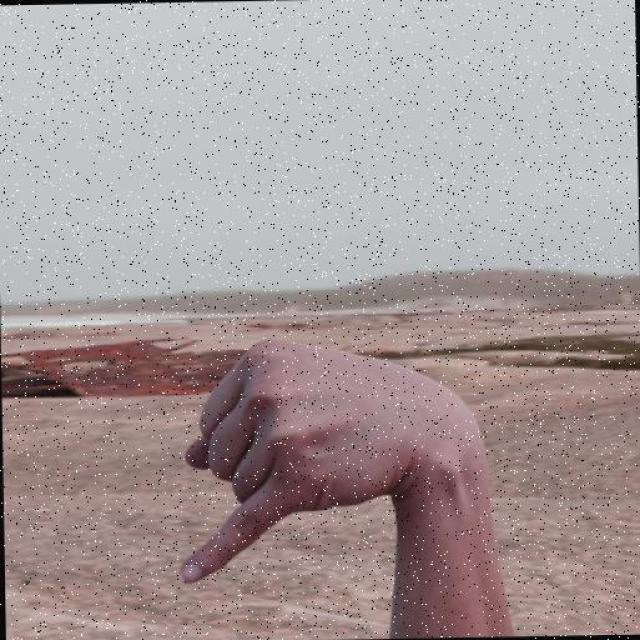J: (173, 332, 488, 588)
